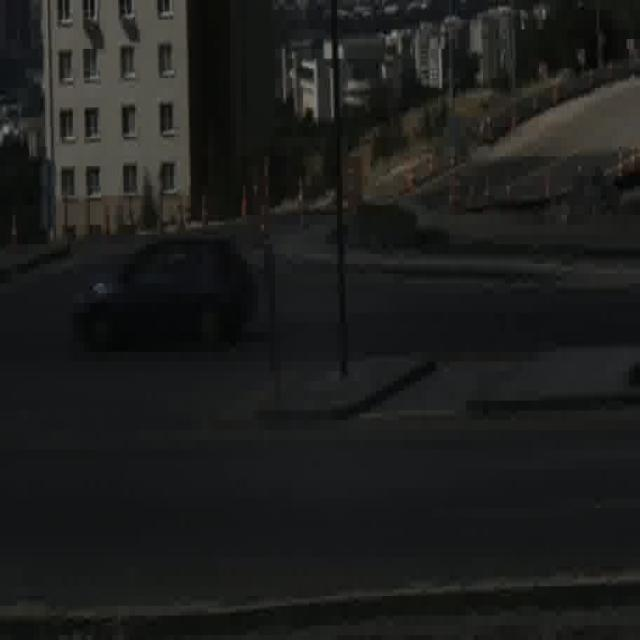Car: (73, 237, 259, 354)
